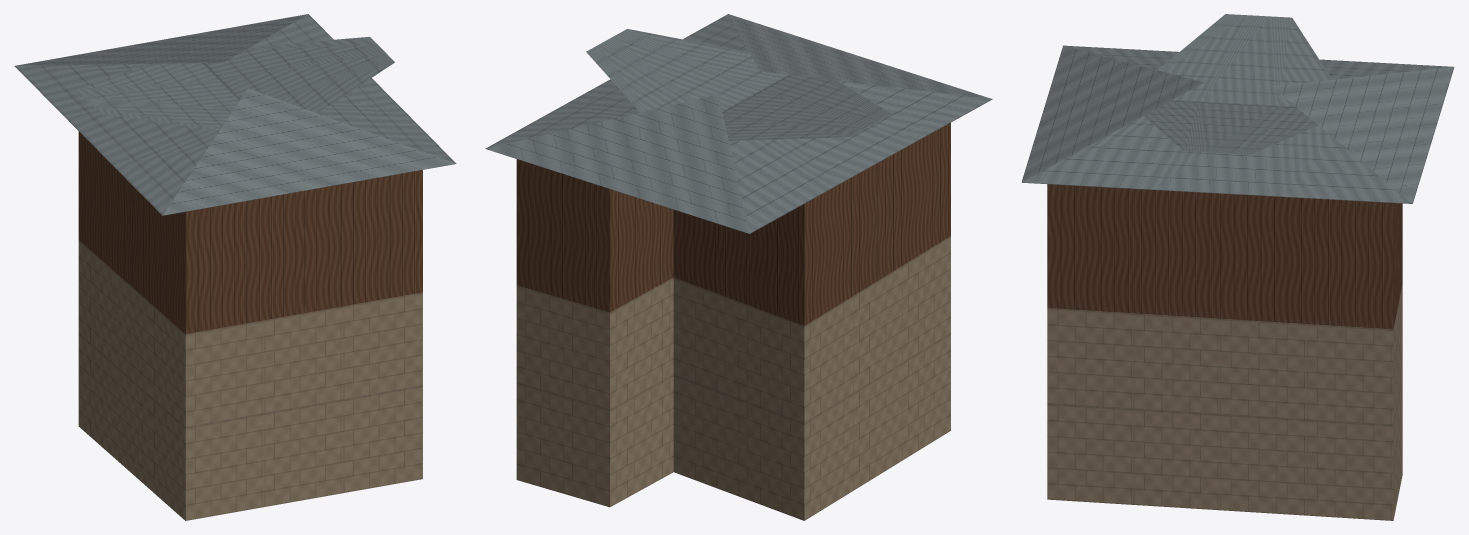
Rendered from bld_c-28_4_565.gltf.
The picture shows the model from 3 angles, left to right: view 1: azimuth 30°, elevation 25°; view 2: azimuth 150°, elevation 25°; view 3: azimuth 270°, elevation 25°; orthographic projection. The views are drawn at different scales.
Parts seen in each view (by area): view 1: bld_c-28_4_565; view 2: bld_c-28_4_565; view 3: bld_c-28_4_565.
Part boxes in pixels (x1,y1,x2,y2): bld_c-28_4_565: (14,14,456,520); bld_c-28_4_565: (485,14,992,520); bld_c-28_4_565: (1021,14,1454,520).
Bounding box in the file's own units: 8.4 × 9.1 × 9.71.
Materials: 3 (3 with a texture image).
